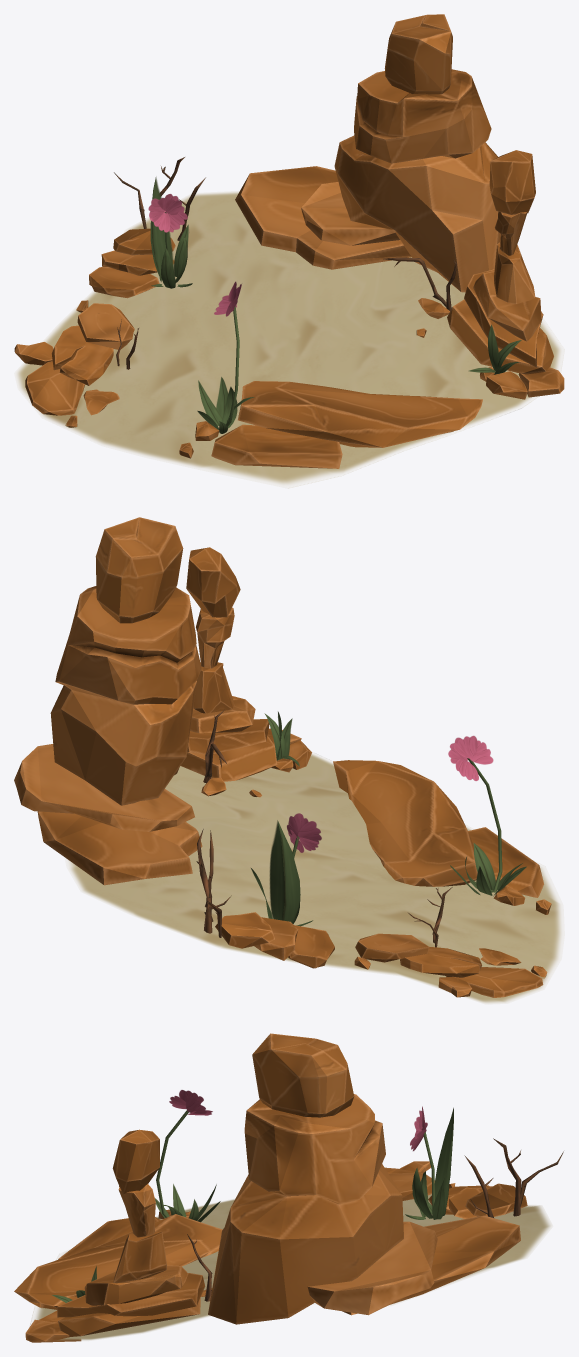
The model's file is Ponto_encontro_B.glb.
3 renders of one model, top to bottom at view 1: azimuth 30°, elevation 25°; view 2: azimuth 150°, elevation 25°; view 3: azimuth 270°, elevation 25°, orthographic. The views are drawn at different scales.
Visible parts, largest first — view 1: Steine_Material #32_0, OptimizedDesertLP002_Material #32_0, Blatt10_Material #32_0; view 2: Steine_Material #32_0, OptimizedDesertLP002_Material #32_0, Blatt10_Material #32_0; view 3: Steine_Material #32_0, OptimizedDesertLP002_Material #32_0, Blatt10_Material #32_0, Ast07_Material #32_0, Blatt14_Material #32_0, Staengel1_Material #32_0.
Boxes of the visible parts, x1,y1,x2,y2 form: Steine_Material #32_0: (14,14,564,468); OptimizedDesertLP002_Material #32_0: (16,191,562,488); Blatt10_Material #32_0: (150,177,174,281); Steine_Material #32_0: (14,517,551,997); OptimizedDesertLP002_Material #32_0: (67,753,562,1003); Blatt10_Material #32_0: (269,820,300,923); Steine_Material #32_0: (14,1033,527,1342); OptimizedDesertLP002_Material #32_0: (30,1194,551,1340); Blatt10_Material #32_0: (435,1107,453,1215); Ast07_Material #32_0: (493,1138,521,1216); Blatt14_Material #32_0: (412,1167,432,1218); Staengel1_Material #32_0: (156,1110,188,1217).
Bounding box in the file's own units: 274 × 185 × 272.
Materials: 1 (1 with a texture image).
